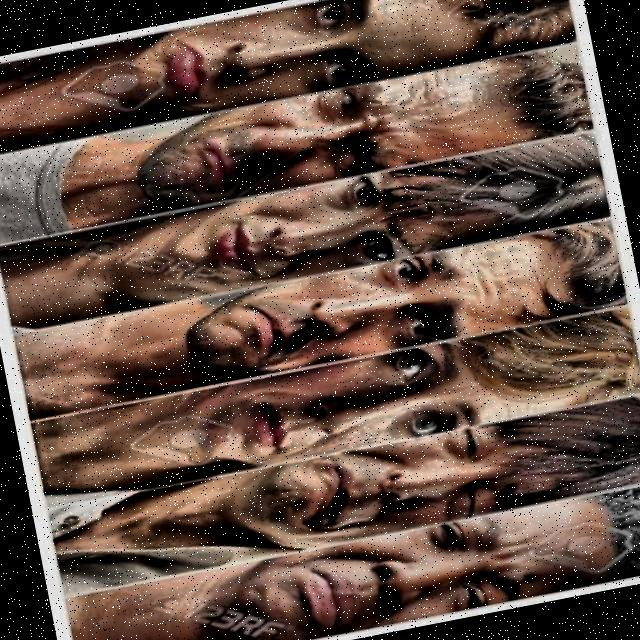neutral: (194, 308, 640, 480)
sad: (127, 130, 614, 312), (150, 217, 633, 395), (130, 38, 595, 219), (212, 393, 640, 568), (195, 478, 640, 640)
